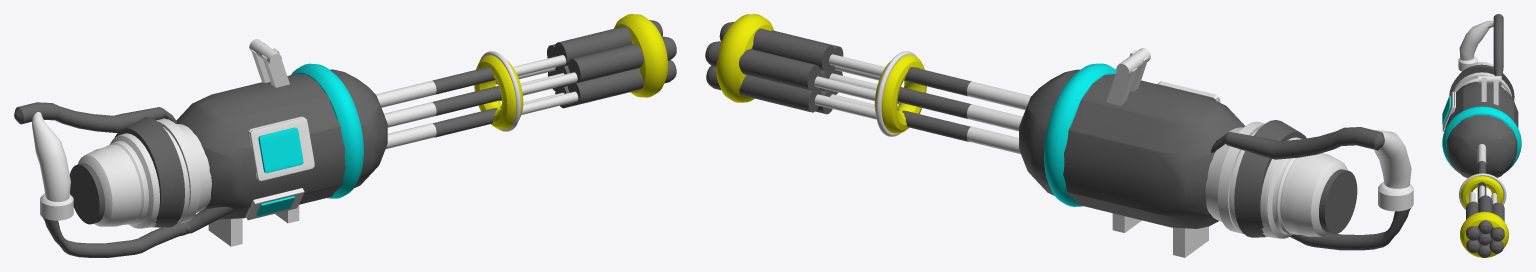
File: mini_gun.fbx
The picture shows the model from 3 angles, left to right: view 1: azimuth 30°, elevation 25°; view 2: azimuth 150°, elevation 25°; view 3: azimuth 270°, elevation 25°; orthographic projection. The views are drawn at different scales.
Parts seen in each view (by area): view 1: Cube.009; view 2: Cube.009; view 3: Cube.009.
Boxes of the visible parts, box(x1,y1,x2,y2) form: Cube.009: box(14, 14, 676, 257); Cube.009: box(705, 14, 1413, 257); Cube.009: box(1442, 14, 1521, 257).
Bounding box in the file's own units: 344 × 89.73 × 64.6.
